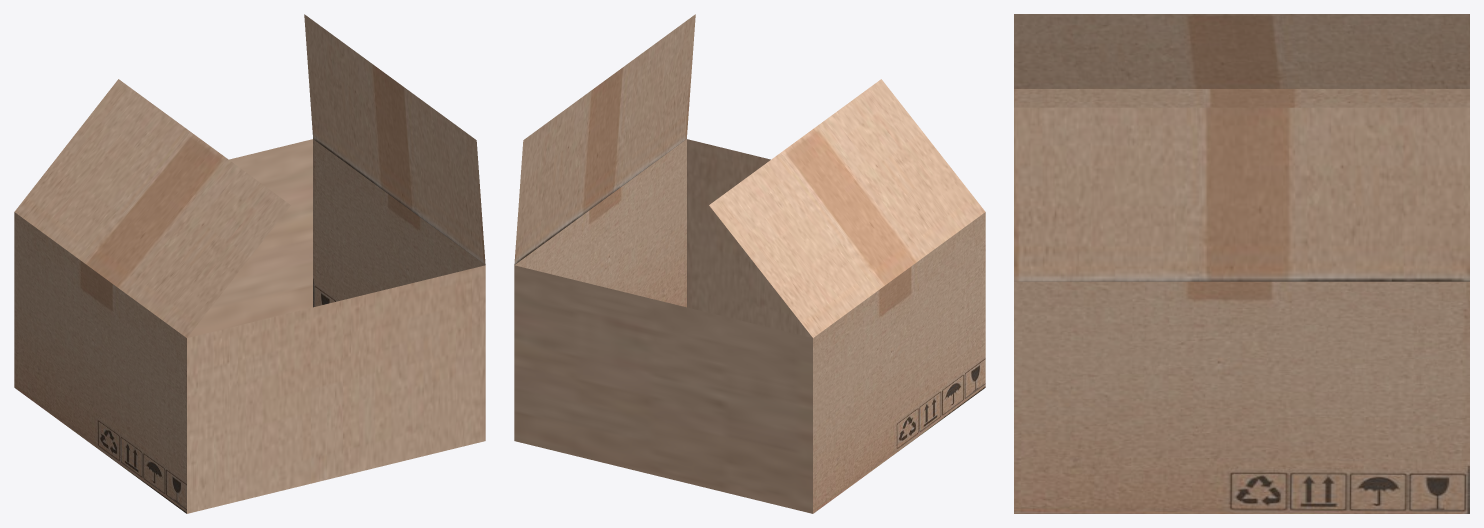
The model's file is Caja.fbx.
3 renders of one model, left to right at view 1: azimuth 30°, elevation 25°; view 2: azimuth 150°, elevation 25°; view 3: azimuth 270°, elevation 25°, orthographic. The views are drawn at different scales.
Parts seen in each view (by area): view 1: Caja; view 2: Caja; view 3: Caja.
Boxes of the visible parts, bbox=[...] form: Caja: bbox=[14, 14, 485, 513]; Caja: bbox=[514, 14, 985, 513]; Caja: bbox=[1014, 14, 1469, 513].
Bounding box in the file's own units: 50.59 × 49.03 × 50.59.
Materials: 1 (1 with a texture image).
